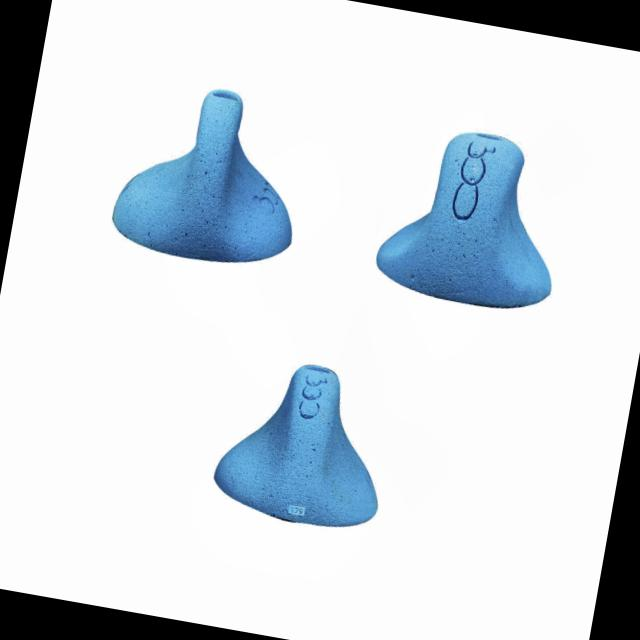Hold: (108, 74, 318, 277), (374, 118, 577, 321), (210, 348, 398, 540)
